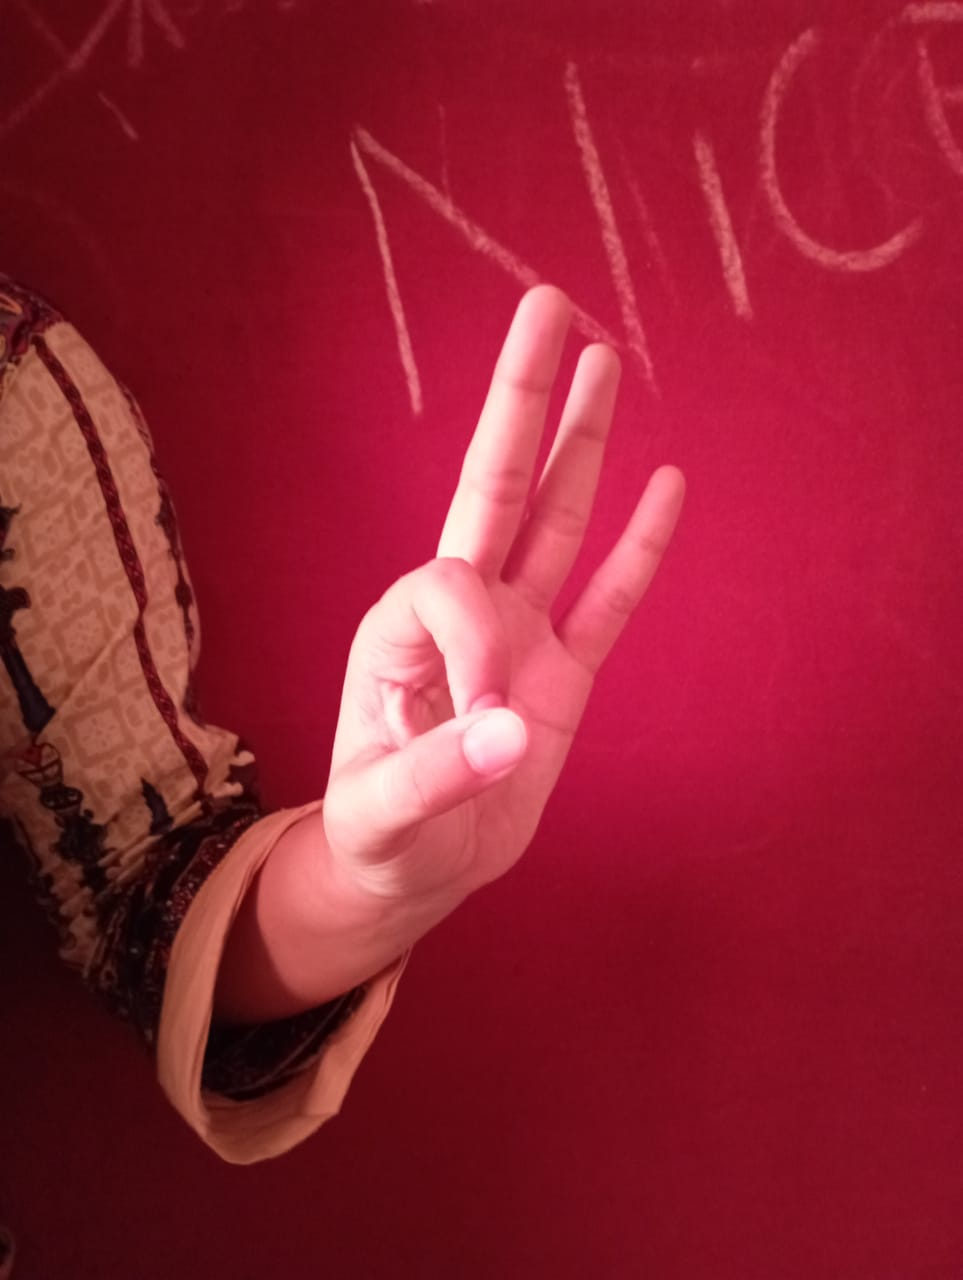Awesome: (301, 272, 709, 980)
